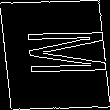M_E: (5, 30, 105, 80)
